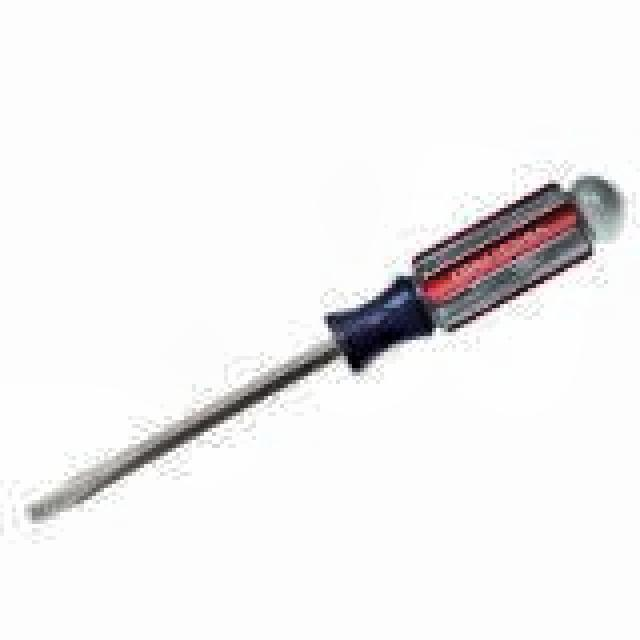screwdriver: (25, 177, 624, 520)
